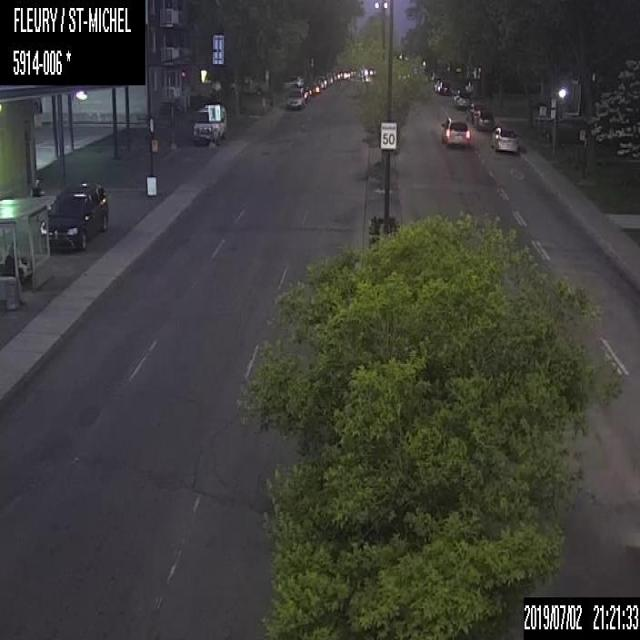vehicle: (39, 177, 110, 253), (191, 102, 229, 148), (438, 113, 473, 149), (490, 123, 519, 152), (238, 74, 268, 95), (285, 79, 306, 108), (472, 106, 494, 132), (452, 90, 472, 110), (435, 79, 452, 94), (308, 79, 322, 97)
